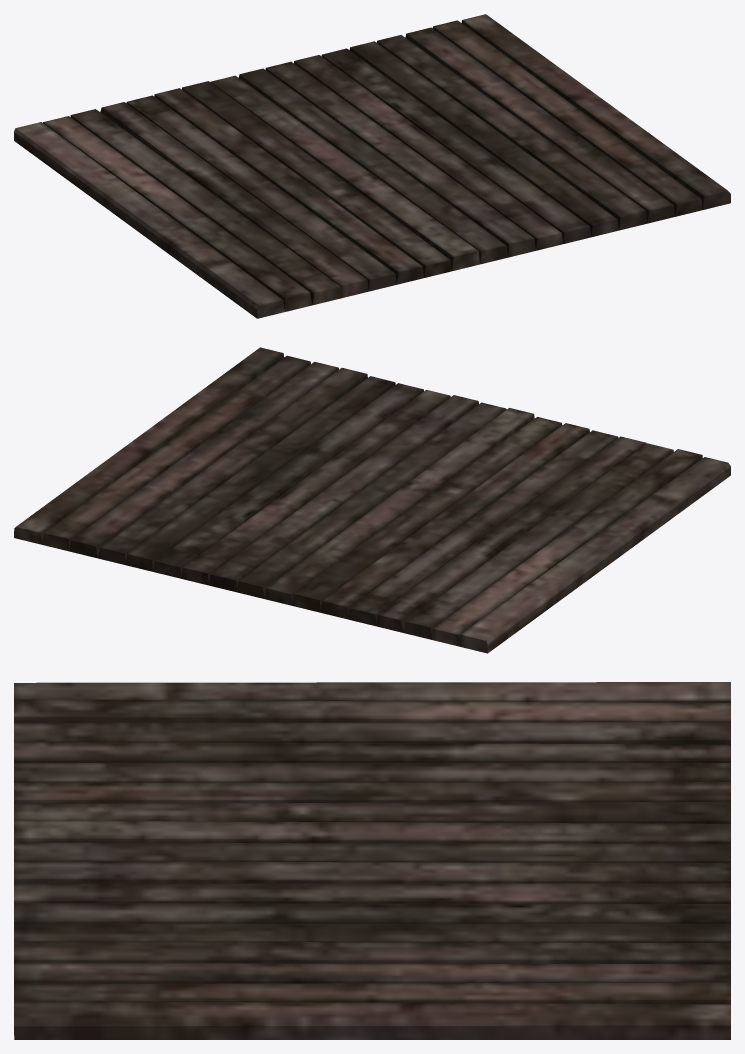
Rendered from SM_FloorPlanks_01_81a38c.glb.
3 renders of one model, top to bottom at view 1: azimuth 30°, elevation 25°; view 2: azimuth 150°, elevation 25°; view 3: azimuth 270°, elevation 25°, orthographic. The views are drawn at different scales.
Bounding box in the file's own units: 4.11 × 0.1141 × 3.65.
1 material, 1 textured.
